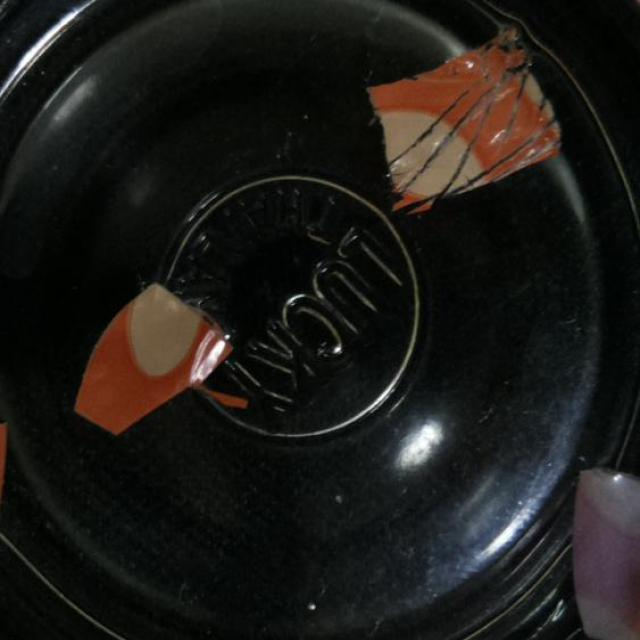fiber: (363, 24, 563, 214), (73, 280, 250, 437), (575, 462, 640, 640)
